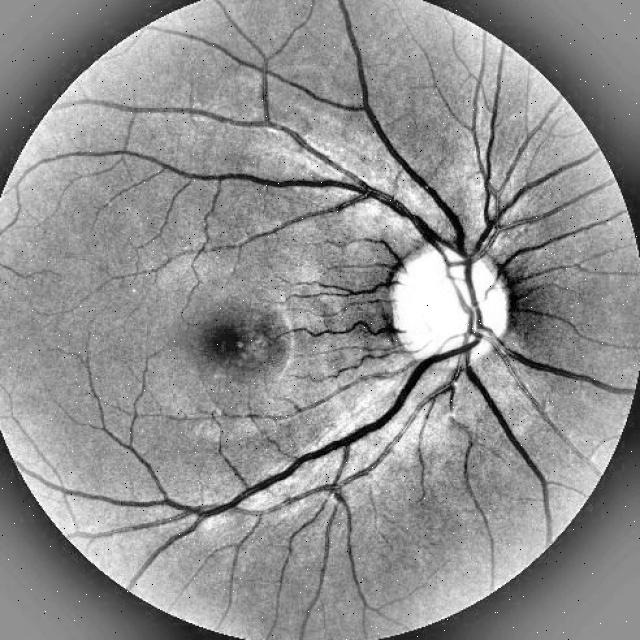Macula: (195, 321, 240, 365)
Nerves: (137, 140, 630, 580), (79, 0, 587, 258), (208, 328, 541, 516), (168, 356, 442, 522), (242, 176, 483, 343), (463, 358, 548, 498), (489, 336, 614, 392), (505, 346, 624, 393), (498, 222, 593, 278), (281, 127, 352, 176)
Optic Disk: (392, 246, 509, 360)
